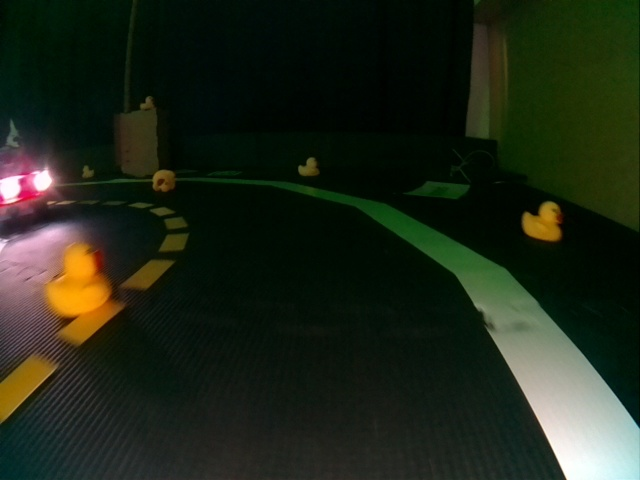Duckie: (46, 245, 108, 315), (522, 202, 562, 241), (154, 170, 175, 192), (299, 158, 318, 176), (141, 96, 153, 109), (82, 166, 94, 177)
Duckiebot: (0, 148, 51, 220)
